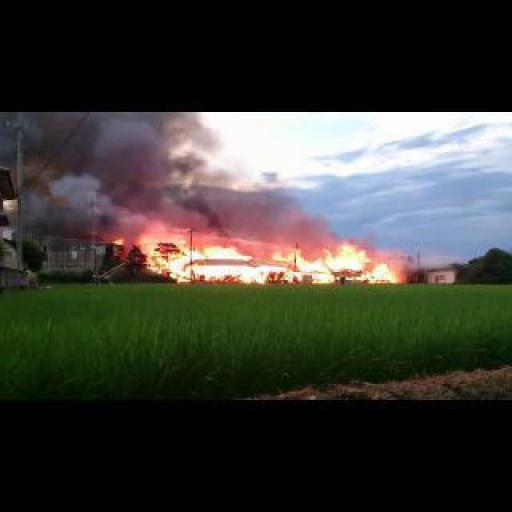smoke: (52, 110, 254, 234), (141, 236, 397, 282), (112, 237, 122, 243)
